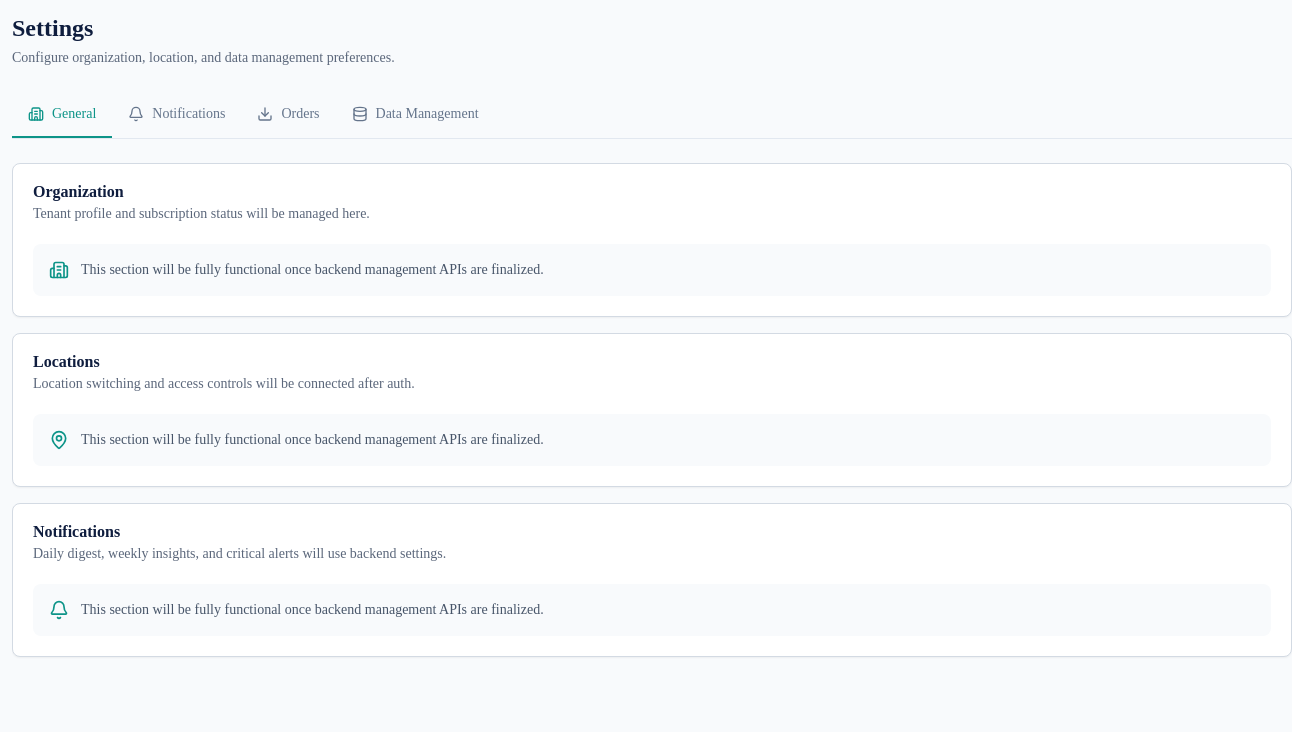
Settings route › shows the Orders tab for a signed-in user and lists purchase orders
Click the button "Orders". click: [288, 115]
box: [241, 92, 336, 138]
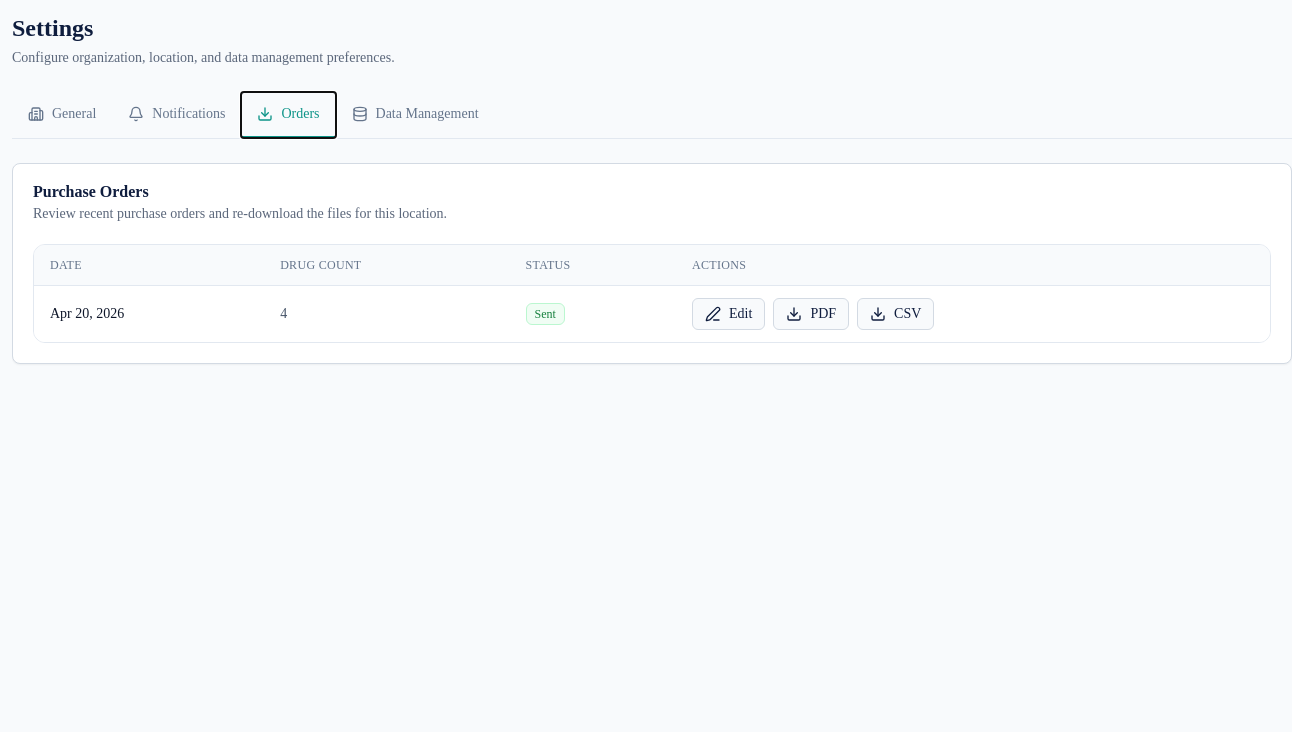
Check: the heading "Purchase Orders" is shown, box [33, 183, 149, 200]
Check: the text "4" is shown, box [264, 286, 510, 342]
Check: the button "Edit" is shown, box [692, 298, 765, 330]
